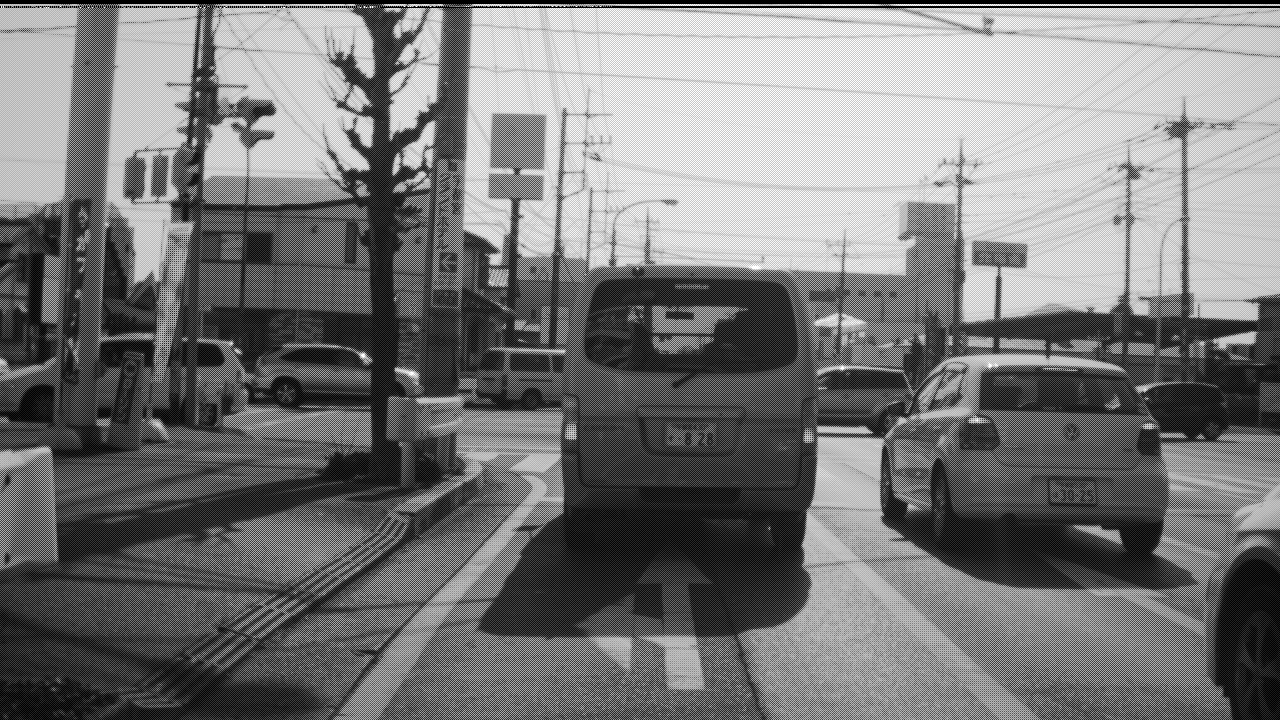pole: (54, 2, 120, 428), (420, 5, 473, 395), (185, 5, 213, 424), (549, 108, 567, 349), (235, 148, 251, 345), (952, 139, 964, 357), (1181, 96, 1190, 384), (1122, 147, 1133, 365), (505, 201, 521, 347), (1153, 236, 1166, 380), (835, 228, 846, 355), (992, 268, 1003, 353), (584, 188, 594, 273)
